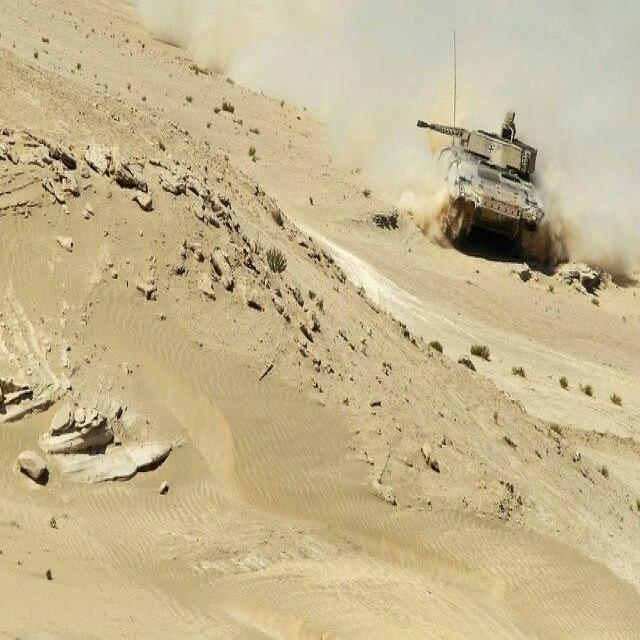tank: (418, 112, 548, 254)
